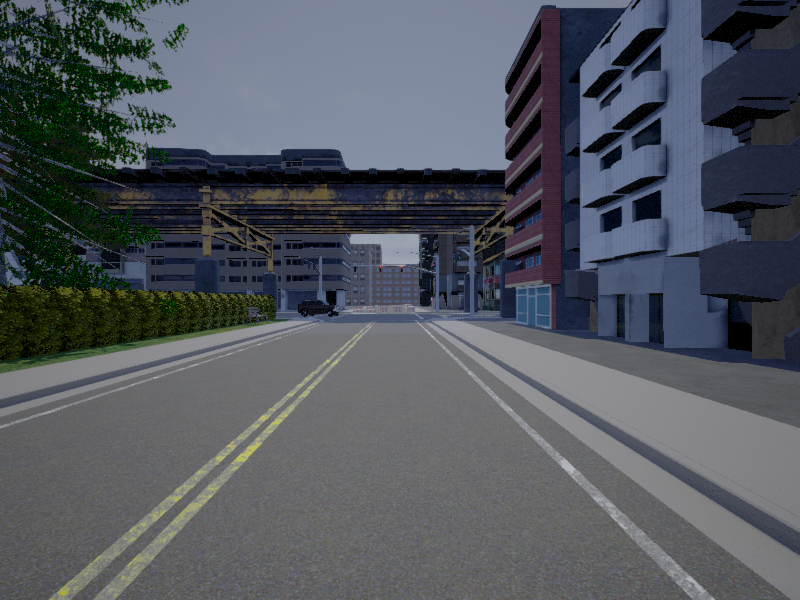Benign: (296, 300, 342, 319)
